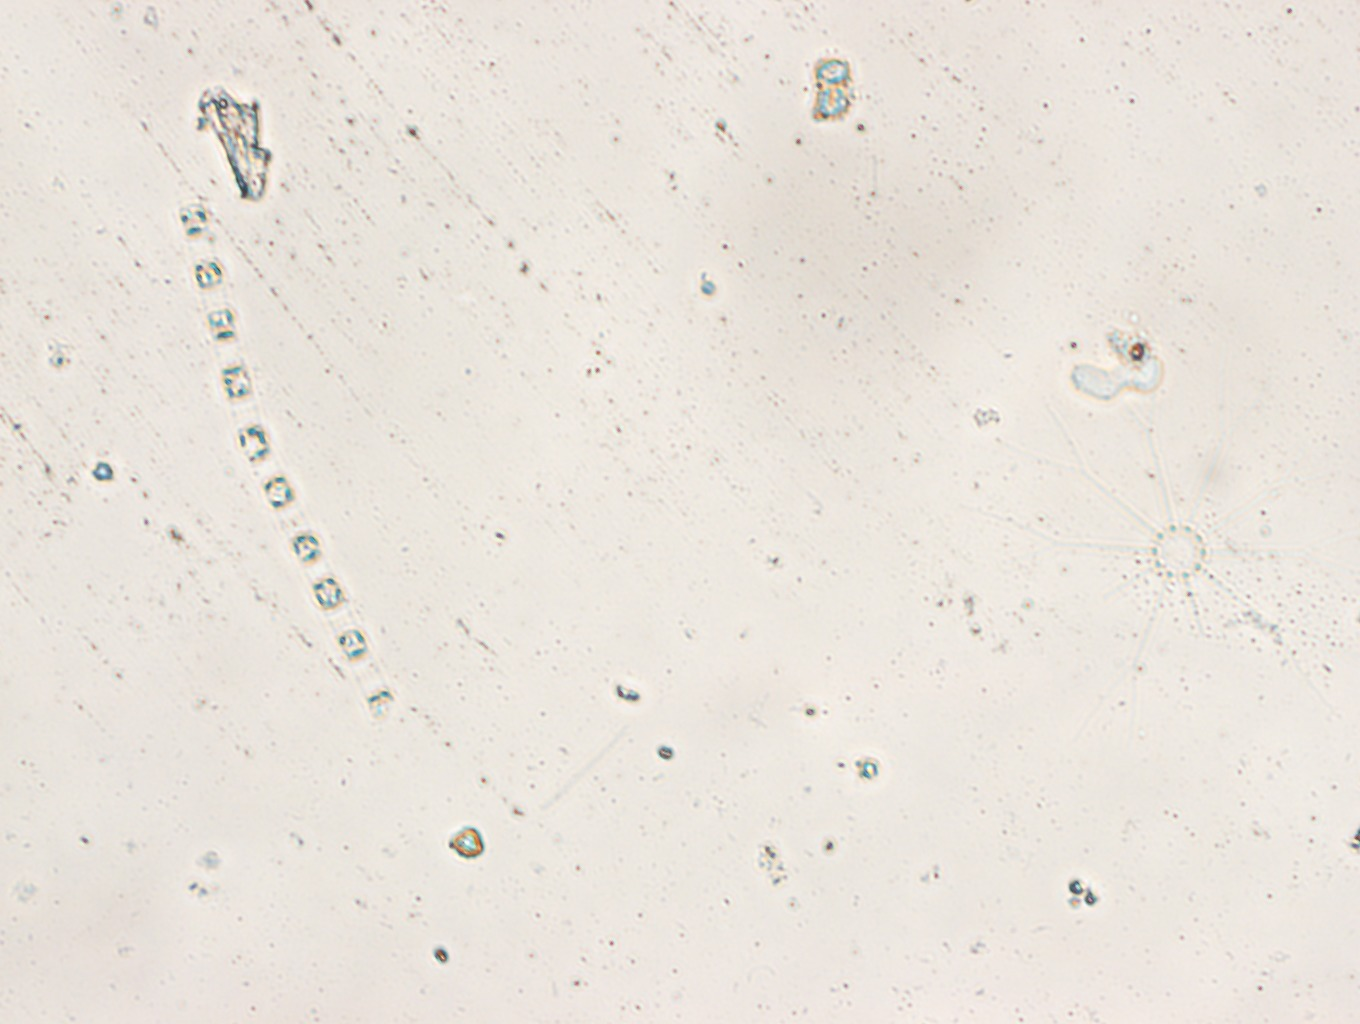bacteriastrum: (988, 376, 1360, 738)
skeletonema: (238, 430, 393, 717), (177, 205, 269, 465)
